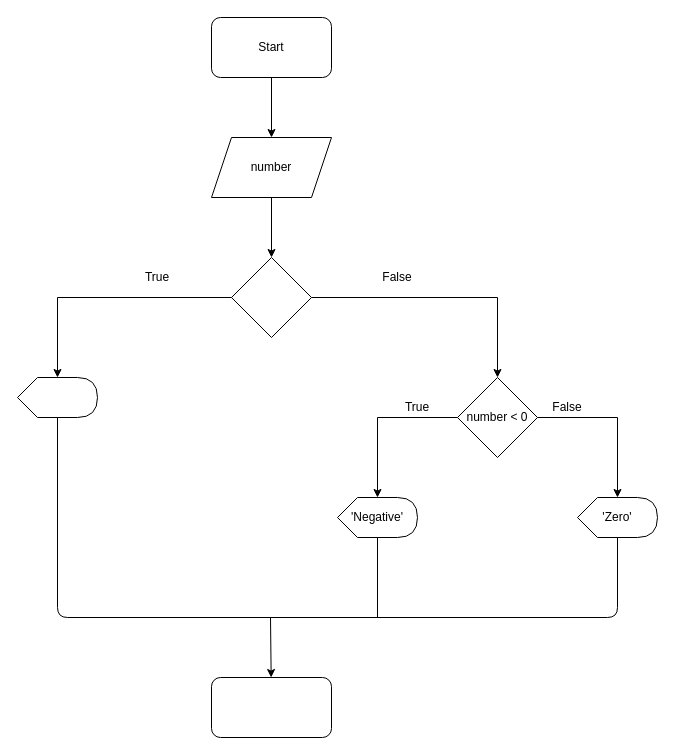
The diagram is 675 pixels wide and 755 high, and some of its shapes have lost their labels. The centre of each missing label's shape, as x and y in pixels:
'Positive': pixel 57 397
End: pixel 271 707
number > 0: pixel 271 297
